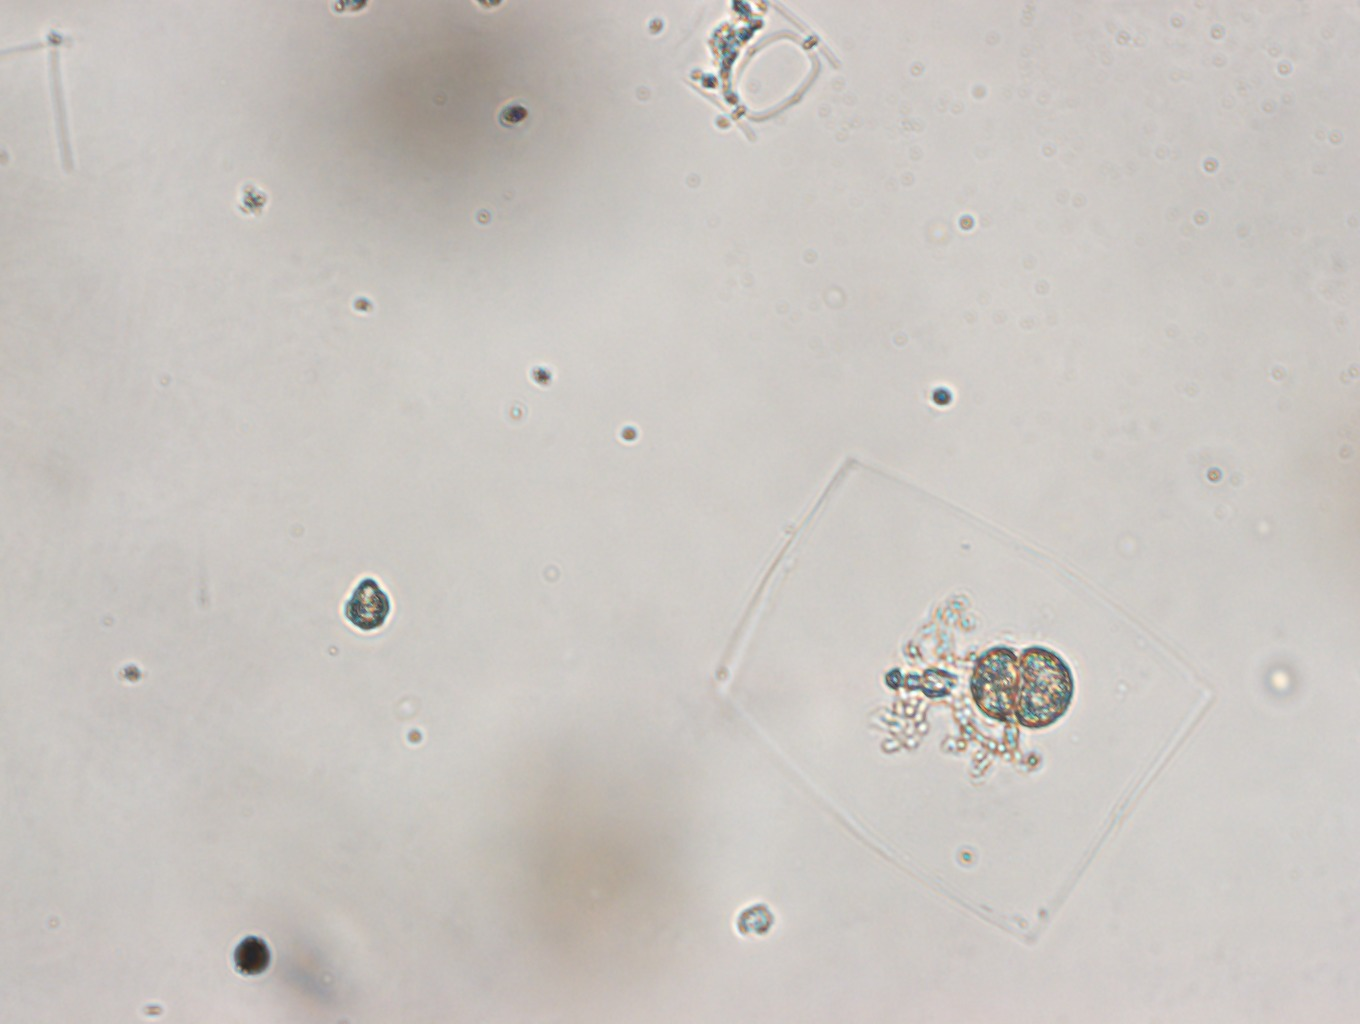eucampia: (677, 1, 841, 144)
helicotheca: (708, 453, 1223, 954)
